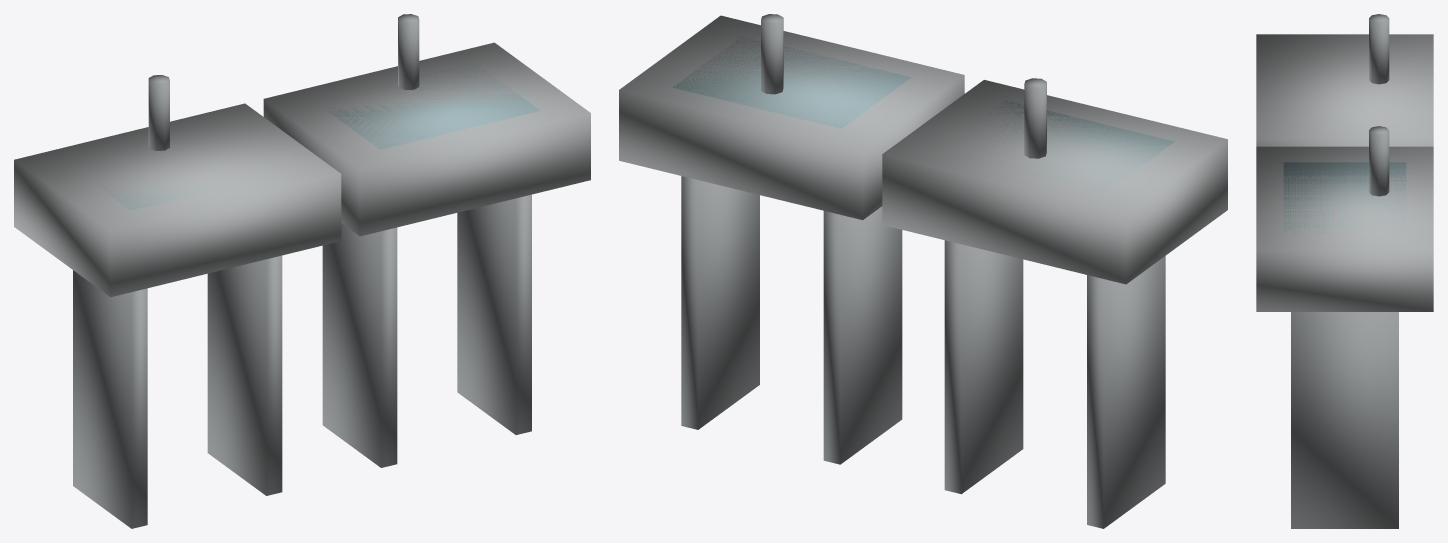
File: bar_sink__cluster.glb
The picture shows the model from 3 angles, left to right: view 1: azimuth 30°, elevation 25°; view 2: azimuth 150°, elevation 25°; view 3: azimuth 270°, elevation 25°; orthographic projection. The views are drawn at different scales.
Visible parts, largest first — view 1: world; view 2: world; view 3: world.
Part boxes in pixels (x1,y1,x2,y2): world: (14,14,590,528); world: (619,14,1227,528); world: (1256,14,1433,528).
Size of the model in its own units: 1.5 by 1.18 by 0.52.
